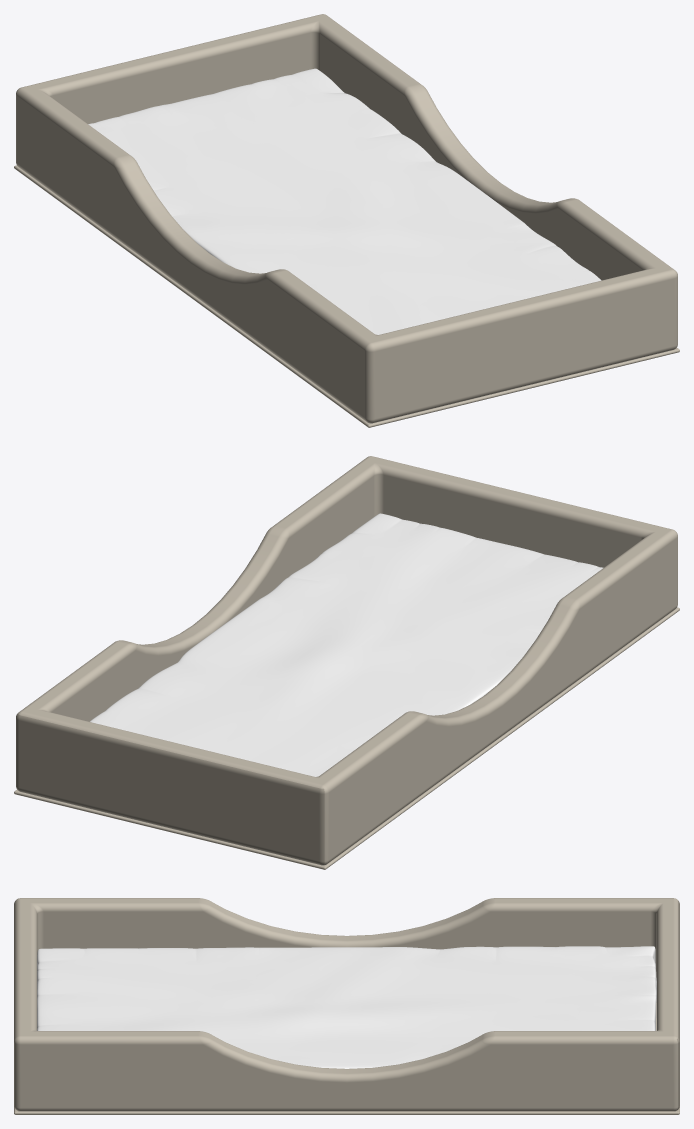
3 views of the same model, one above another, from view 1: azimuth 30°, elevation 25°; view 2: azimuth 150°, elevation 25°; view 3: azimuth 270°, elevation 25° (orthographic). The views are drawn at different scales.
Parts seen in each view (by area): view 1: root; view 2: root; view 3: root.
Part boxes in pixels (x1,y1,x2,y2): root: (14, 14, 679, 427); root: (14, 456, 679, 869); root: (14, 898, 679, 1114).
Size of the model in its own units: 1.02 by 0.2555 by 2.01.
